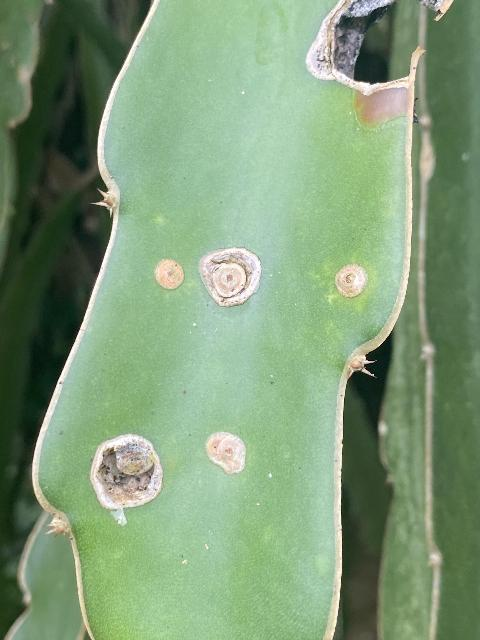stemcanker: (302, 2, 440, 129), (87, 429, 167, 517), (192, 244, 268, 311), (201, 427, 251, 479), (332, 258, 372, 305), (153, 255, 189, 293)
